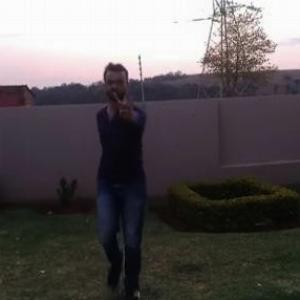takeoff-hand: (114, 86, 140, 124)
